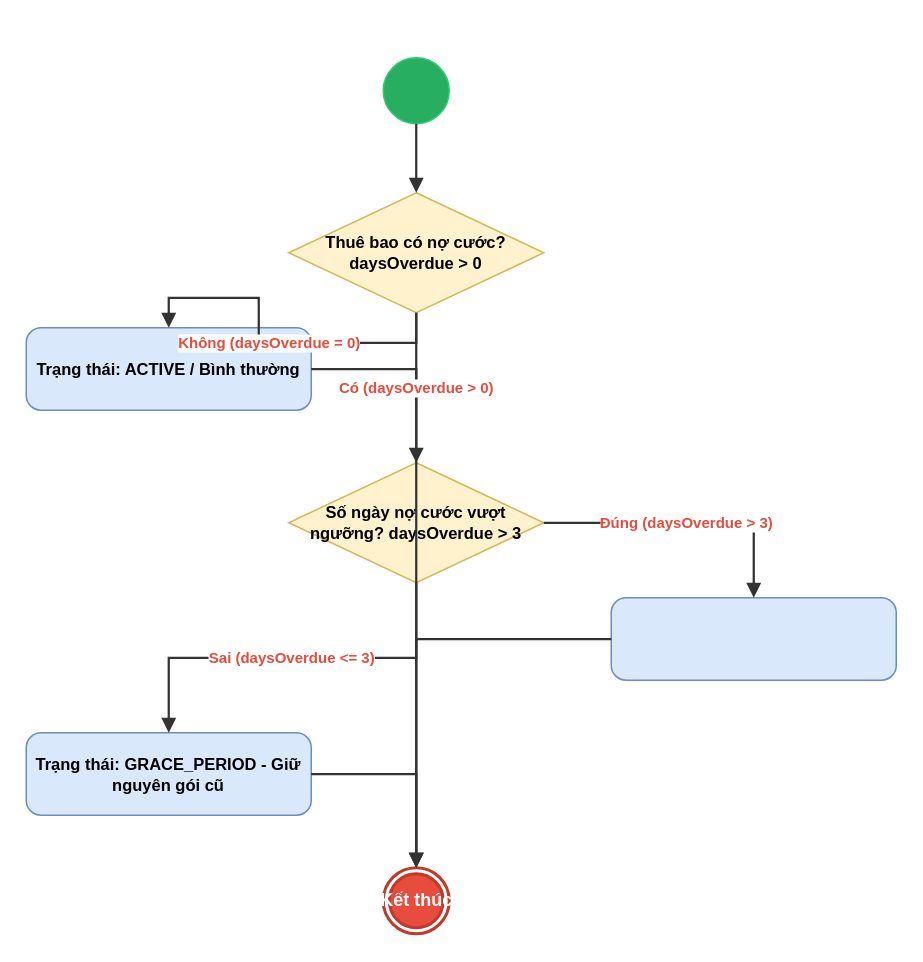
The diagram is 923 pixels wide and 962 high, and some of its shapes have lost their labels. Here are the shapes that lost their labels. From the top down, the centre of each, then its label:
pixel 415 90: Bắt đầu kiểm tra thuê bao
pixel 753 638: Hạ cấp: planTier = FREE, deviceLimit = 1, status = EXPIRED
